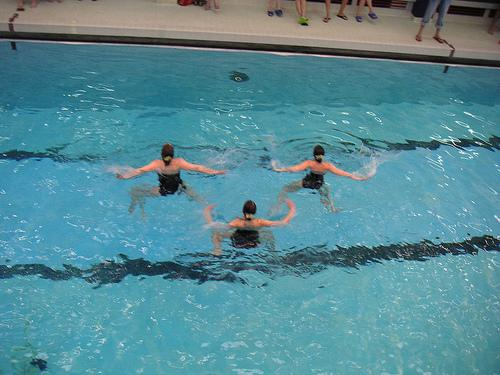human: (115, 142, 228, 212), (271, 142, 370, 212), (204, 197, 292, 255)
